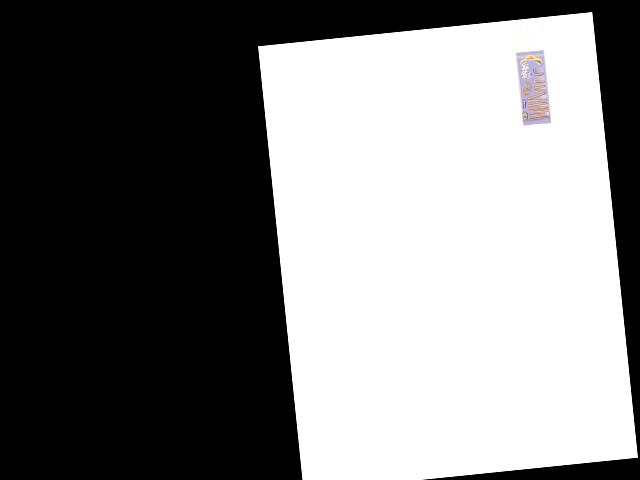chocolate: (515, 48, 555, 127)
